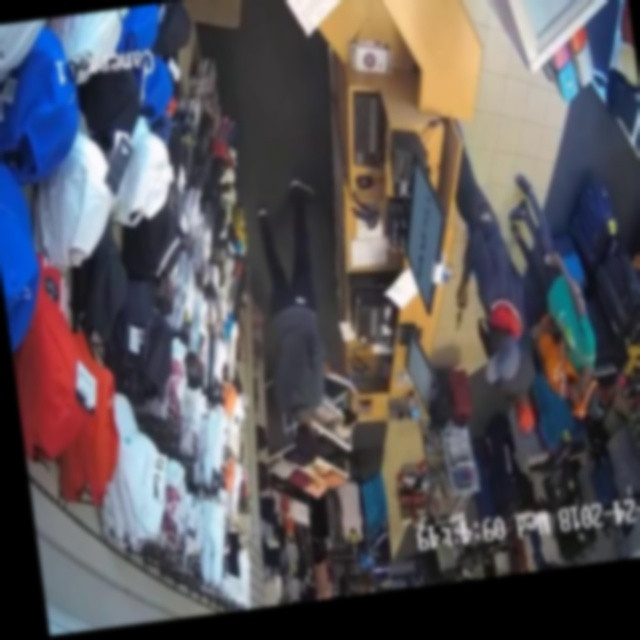gun: (446, 294, 473, 336)
